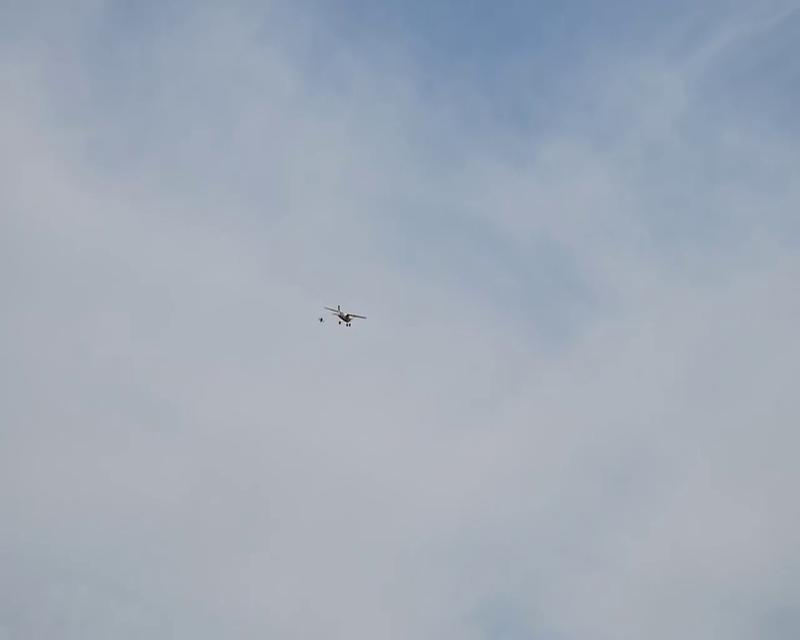UAV: (321, 303, 366, 327)
